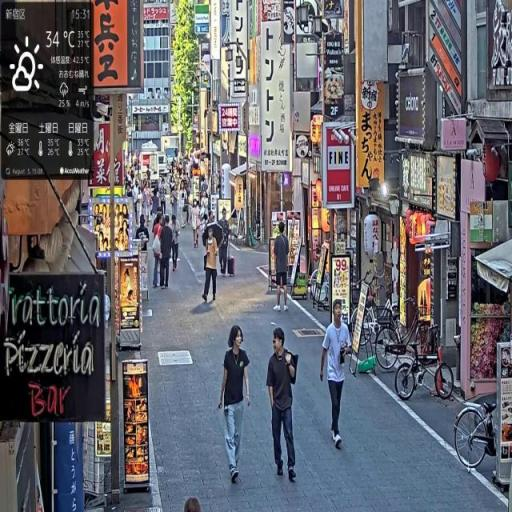person: (219, 325, 253, 486), (320, 301, 355, 452), (267, 325, 300, 484), (203, 222, 222, 307), (274, 222, 291, 315), (171, 215, 182, 272), (192, 201, 202, 250)
